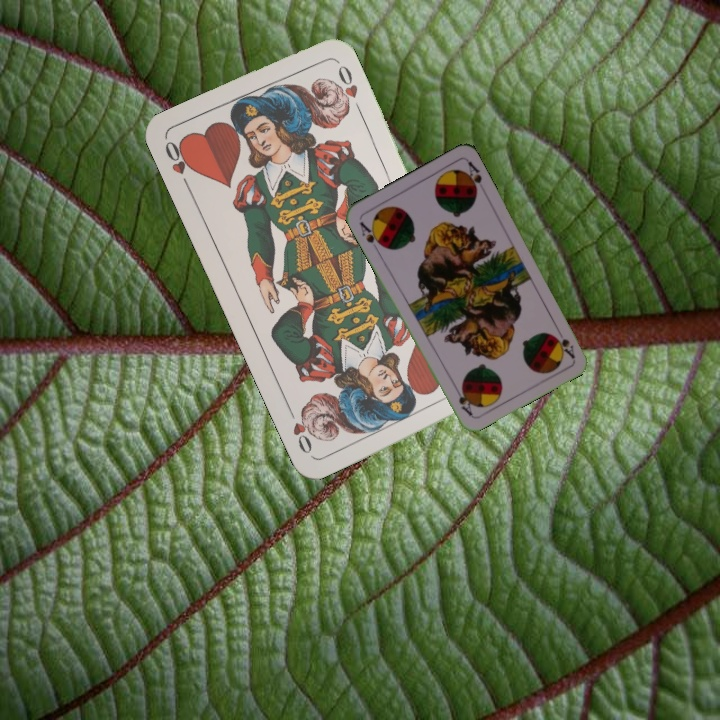HO: (160, 136, 196, 192)
SA: (356, 218, 386, 250), (551, 331, 578, 361)
